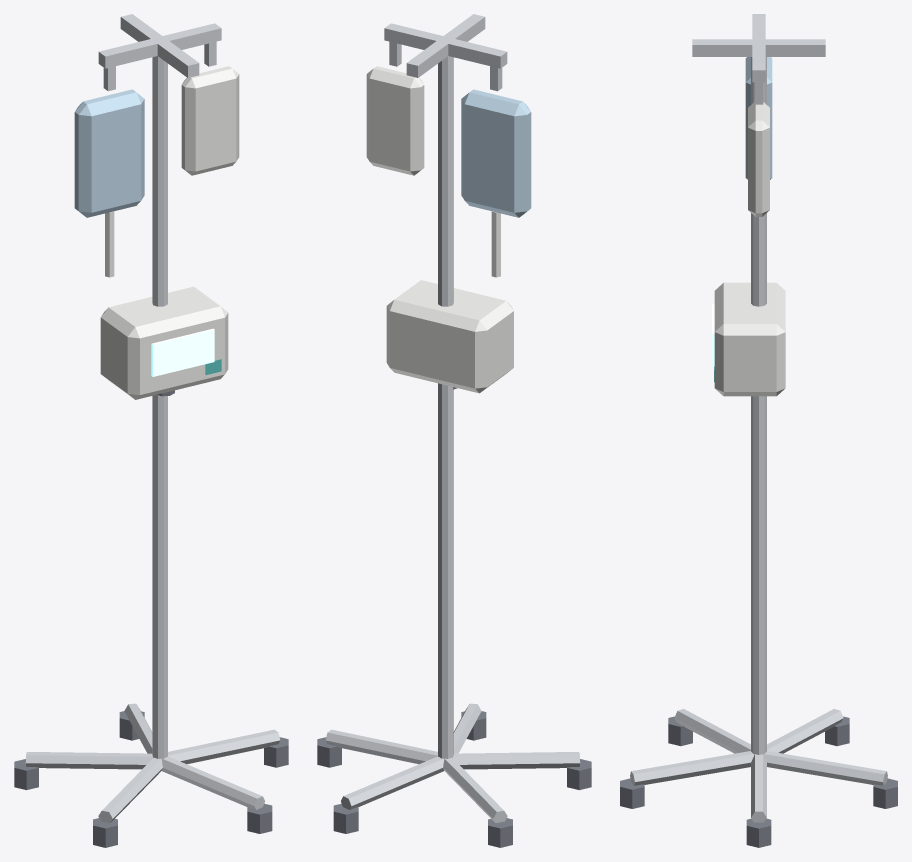
Rendered from medical-23595.glb.
The picture shows the model from 3 angles, left to right: view 1: azimuth 30°, elevation 25°; view 2: azimuth 150°, elevation 25°; view 3: azimuth 270°, elevation 25°; orthographic projection.
Parts seen in each view (by area): view 1: iv-stand-with-pump; view 2: iv-stand-with-pump; view 3: iv-stand-with-pump.
Boxes of the visible parts, x1,y1,x2,y2 form: iv-stand-with-pump: (14,14,288,847); iv-stand-with-pump: (317,14,591,847); iv-stand-with-pump: (620,14,897,847).
Size of the model in its own units: 0.6067 by 1.85 by 0.6261.
